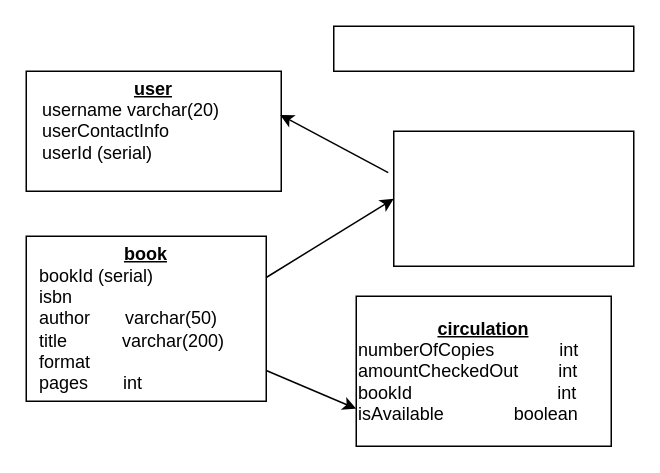
This 660x473 diagram has some shape labels left out. Each missing label, with the box of its shape:
The Super Cool Library of Philly: (332, 25, 634, 71)
user_book bookId int userId int dueDate date isOverdue boolean: (392, 130, 634, 266)
